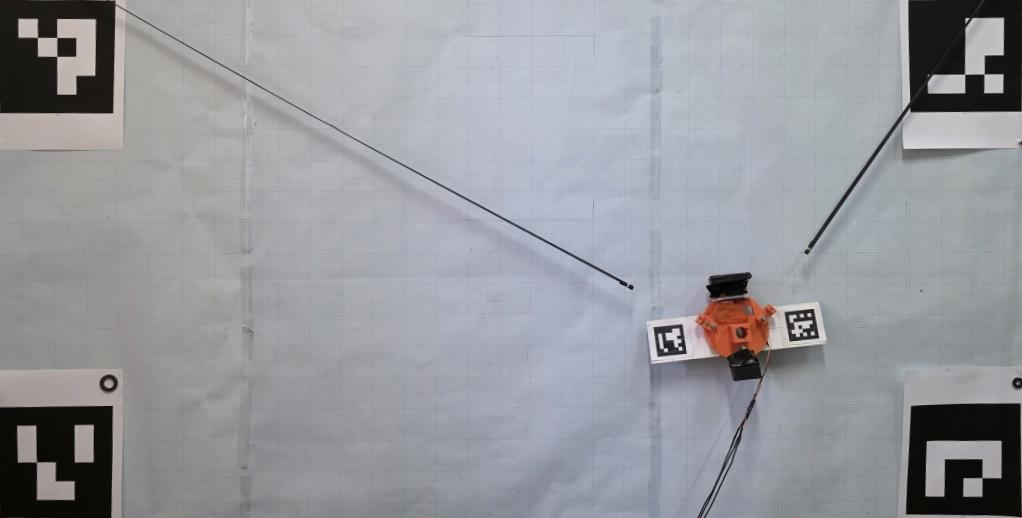robot: (694, 271, 776, 383)
